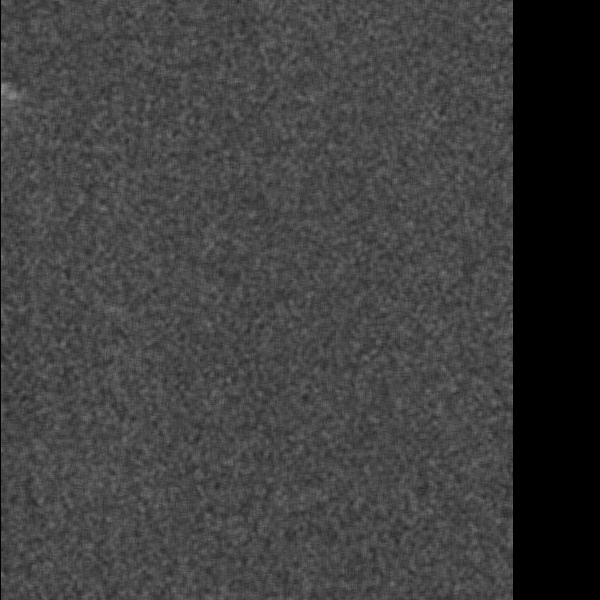spark: (396, 364, 464, 379)
